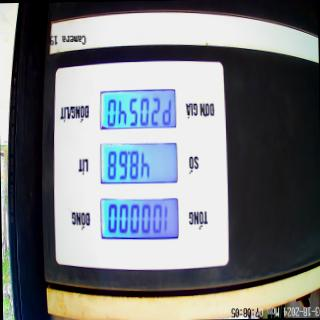screen: (96, 87, 180, 242)
